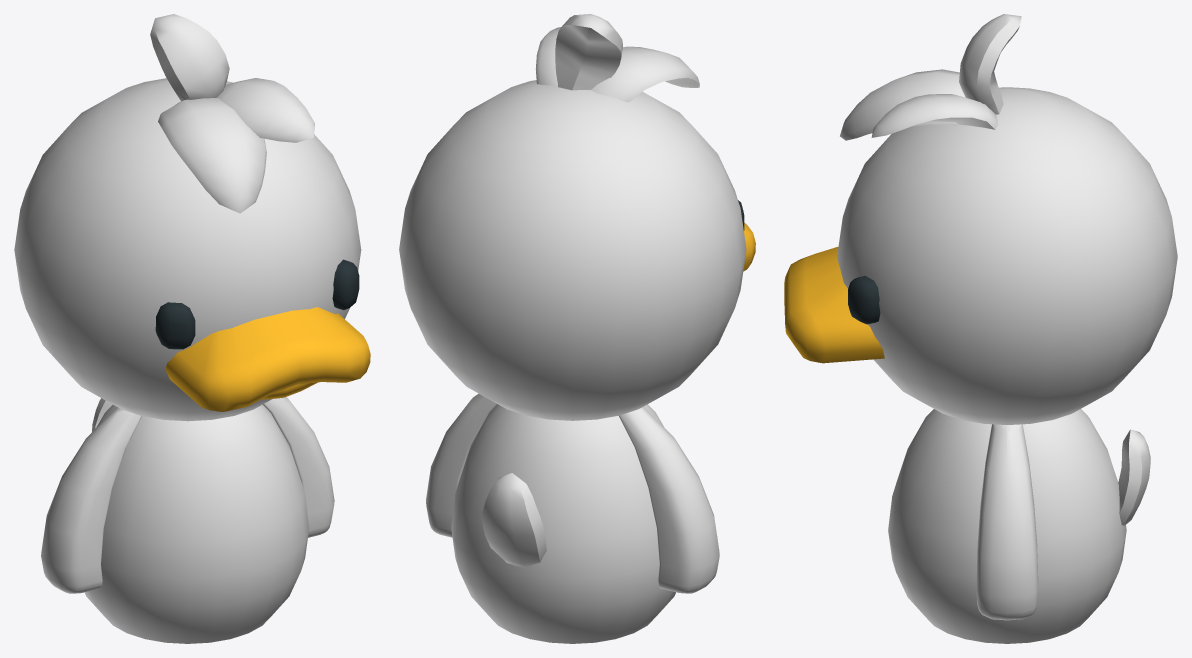
The model's file is duck.glb.
3 renders of one model, left to right at view 1: azimuth 30°, elevation 25°; view 2: azimuth 150°, elevation 25°; view 3: azimuth 270°, elevation 25°, orthographic.
Parts seen in each view (by area): view 1: character_duckHead, character_duck, character_duckArmRight, character_duckArmLeft; view 2: character_duckHead, character_duck, character_duckArmRight, character_duckArmLeft; view 3: character_duckHead, character_duck, character_duckArmLeft.
Part boxes in pixels (x1,y1,x2,y2): character_duckHead: [14, 14, 370, 421]; character_duck: [84, 398, 309, 643]; character_duckArmRight: [41, 407, 141, 593]; character_duckArmLeft: [263, 397, 334, 537]; character_duckHead: [399, 14, 755, 420]; character_duck: [451, 404, 675, 643]; character_duckArmRight: [619, 406, 719, 593]; character_duckArmLeft: [426, 393, 497, 537]; character_duckHead: [784, 14, 1177, 424]; character_duck: [888, 409, 1150, 643]; character_duckArmLeft: [976, 424, 1038, 620].
Bounding box in the file's own units: 1 × 1.89 × 1.15.
